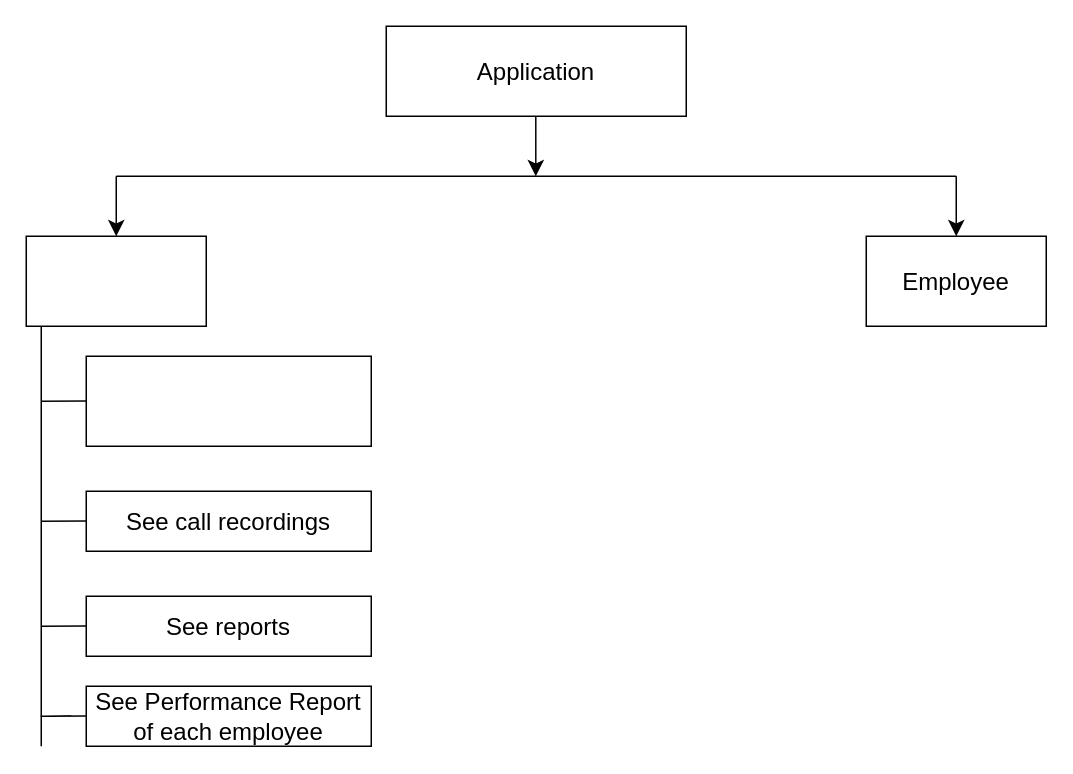
Image size: 1073x774. Some labels were removed from this diagram. The shapes that lost their labels are listed below. From the top down, each one's centre as x and y in pixels, then its label:
At (x=115, y=280): "Admin".
At (x=228, y=400): "Add, Delete, Disable an employee".
